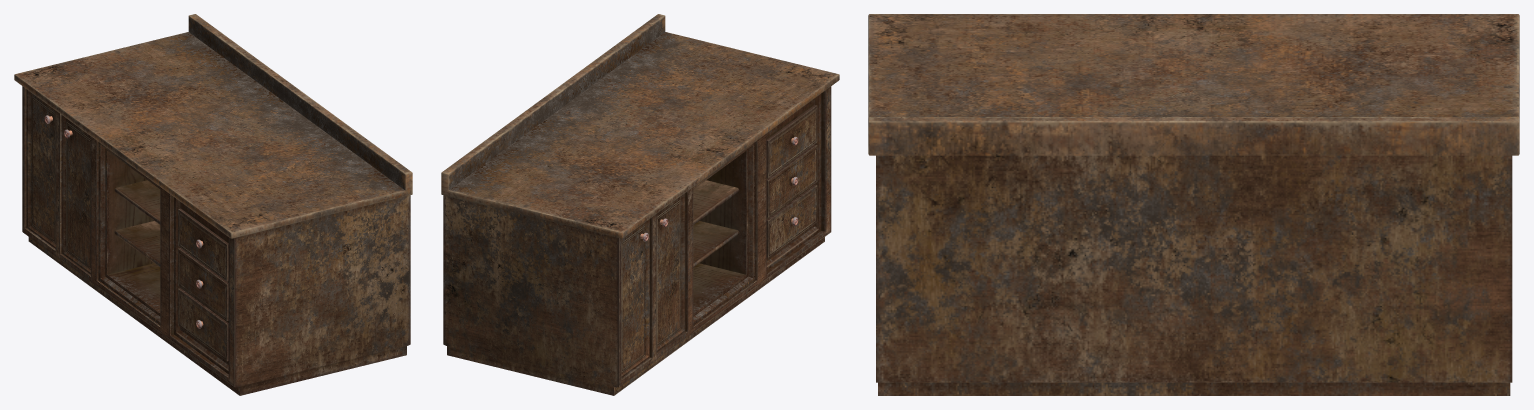
Rendered from old_kitchen_cabinets.glb.
3 renders of one model, left to right at view 1: azimuth 30°, elevation 25°; view 2: azimuth 150°, elevation 25°; view 3: azimuth 270°, elevation 25°, orthographic. The views are drawn at different scales.
Visible parts, largest first — view 1: Counter_low; view 2: Counter_low; view 3: Counter_low.
Boxes of the visible parts, x1=… form: Counter_low: x1=14, y1=14, x2=412, y2=395; Counter_low: x1=441, y1=14, x2=839, y2=395; Counter_low: x1=868, y1=14, x2=1519, y2=395.
Size of the model in its own units: 899 by 871 by 1859.
Materials: 3 (3 with a texture image).
